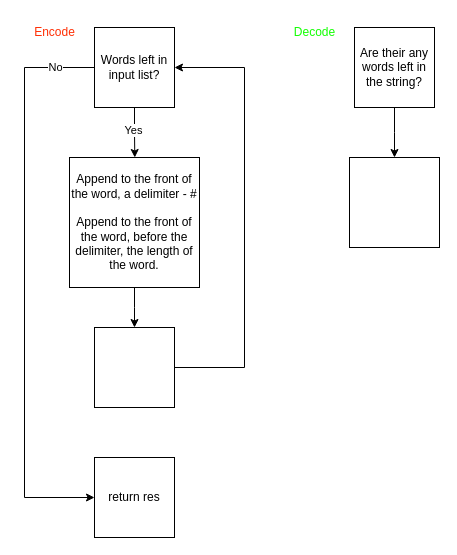
This 457x555 diagram has some shape labels left out. Here are the shapes that lost their labels. From the top down, the box of each, then its label:
(348, 156, 440, 248): Get number at beginning of next word in res string
(94, 326, 174, 408): Add that word to one string called 'res'
